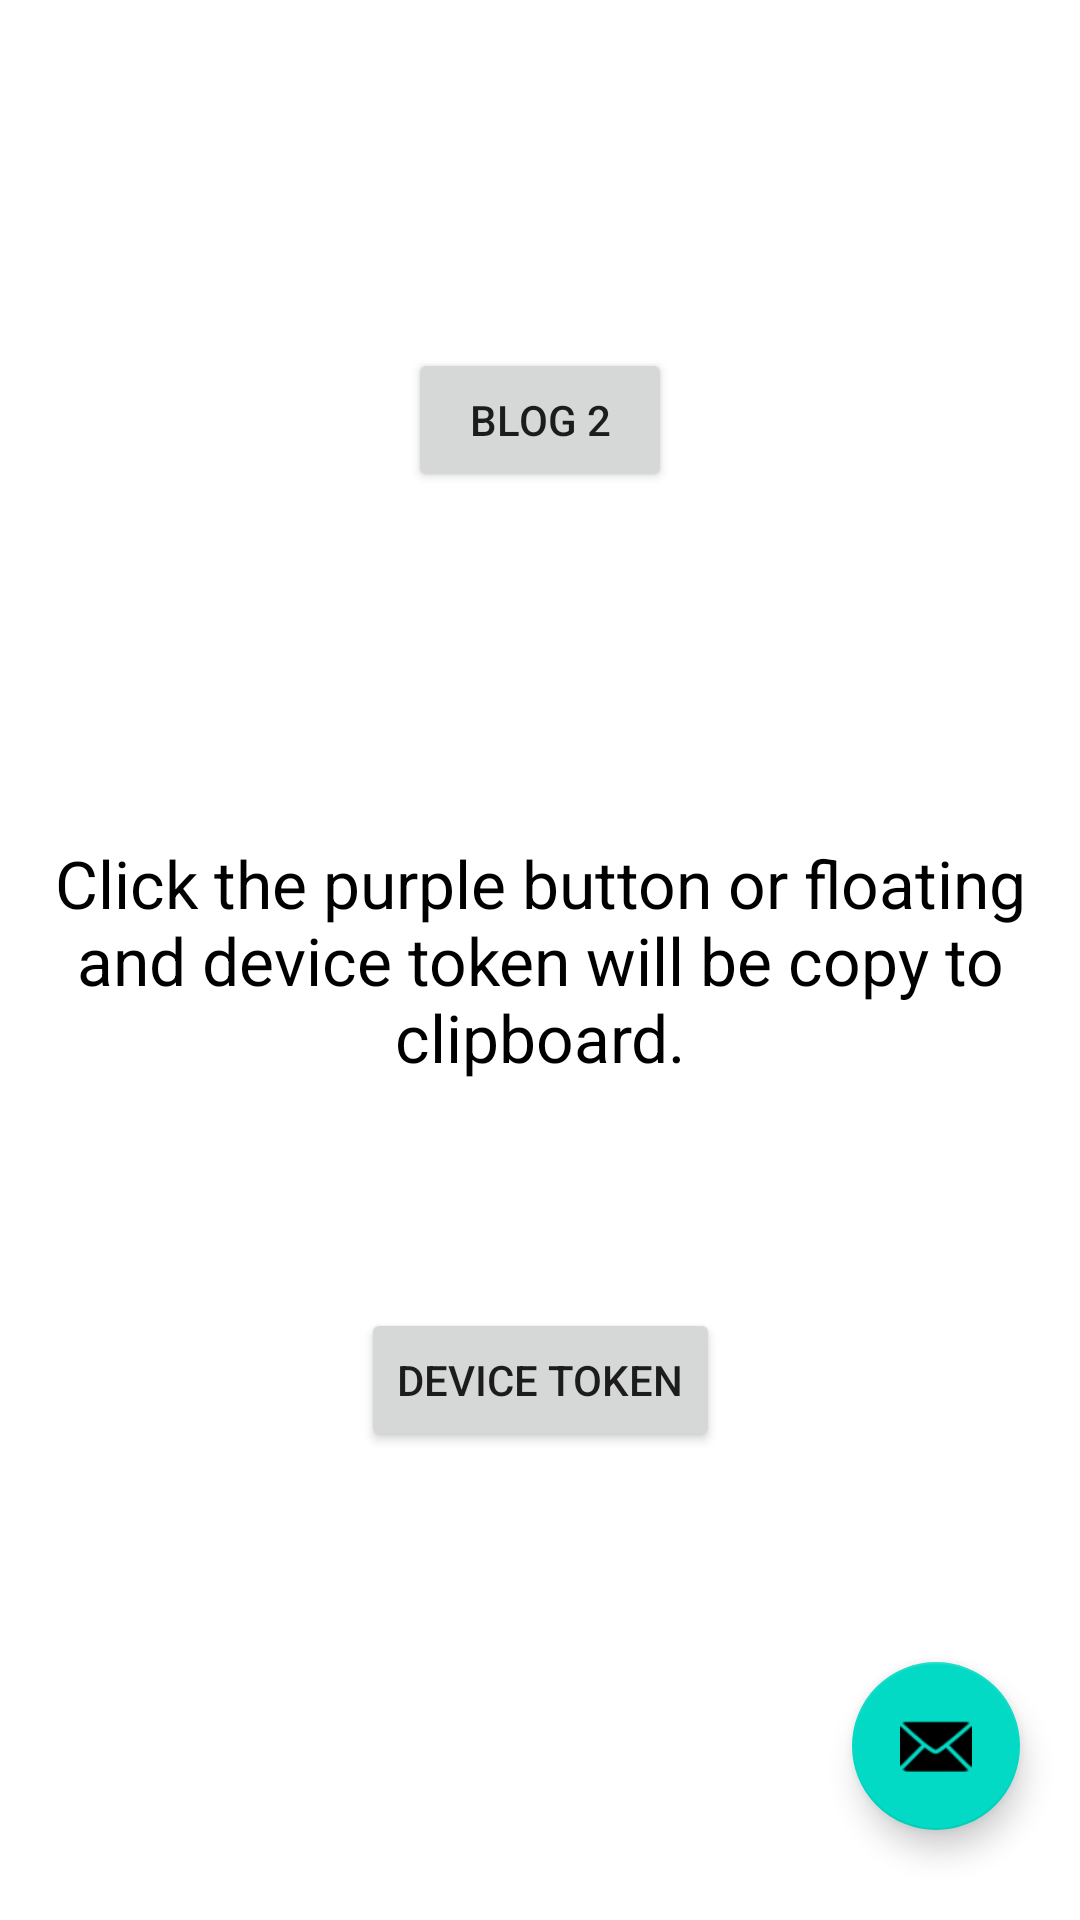

Where to tap for icons on this 1080w x 1920h app screen, as point (x, y):
email: point (936, 1746)
